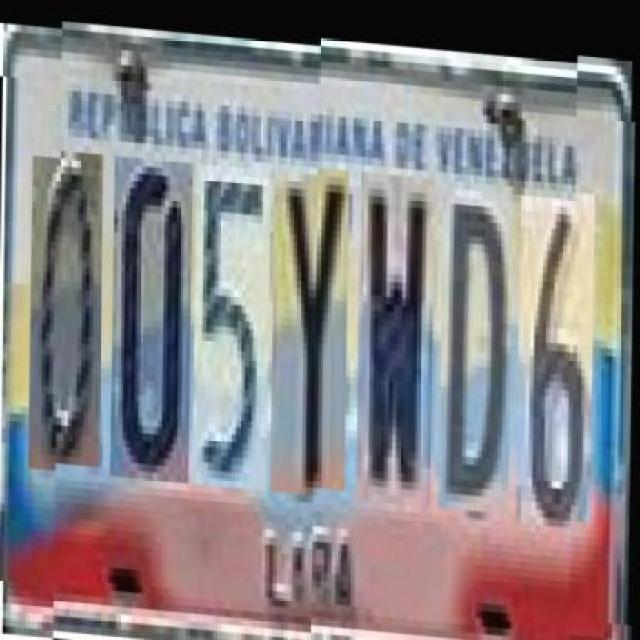0: (111, 146, 194, 472)
5: (193, 152, 272, 478)
6: (517, 185, 595, 517)
d: (439, 179, 513, 504)
o: (29, 140, 103, 458)
w: (357, 164, 435, 498)
y: (272, 158, 350, 484)
